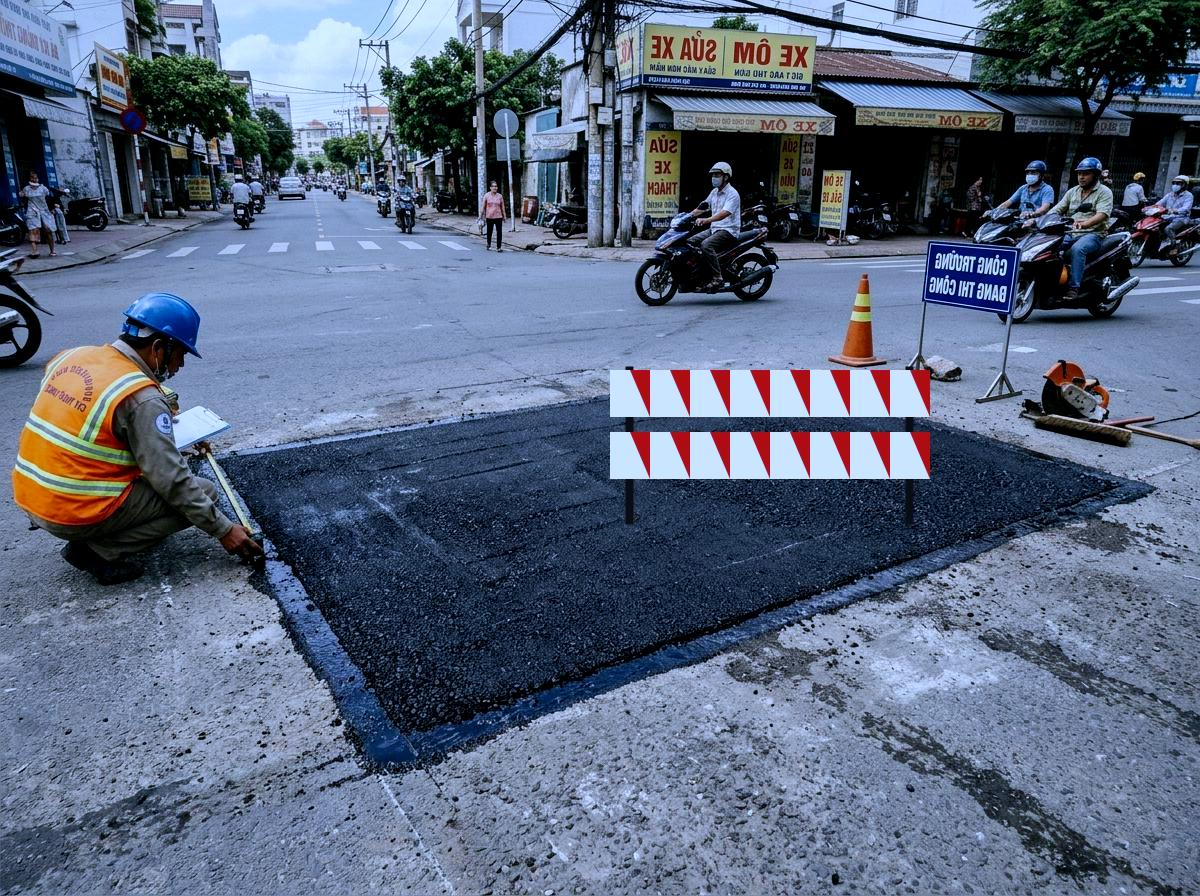ROAD_OBSTACLE: (595, 325, 945, 525)
